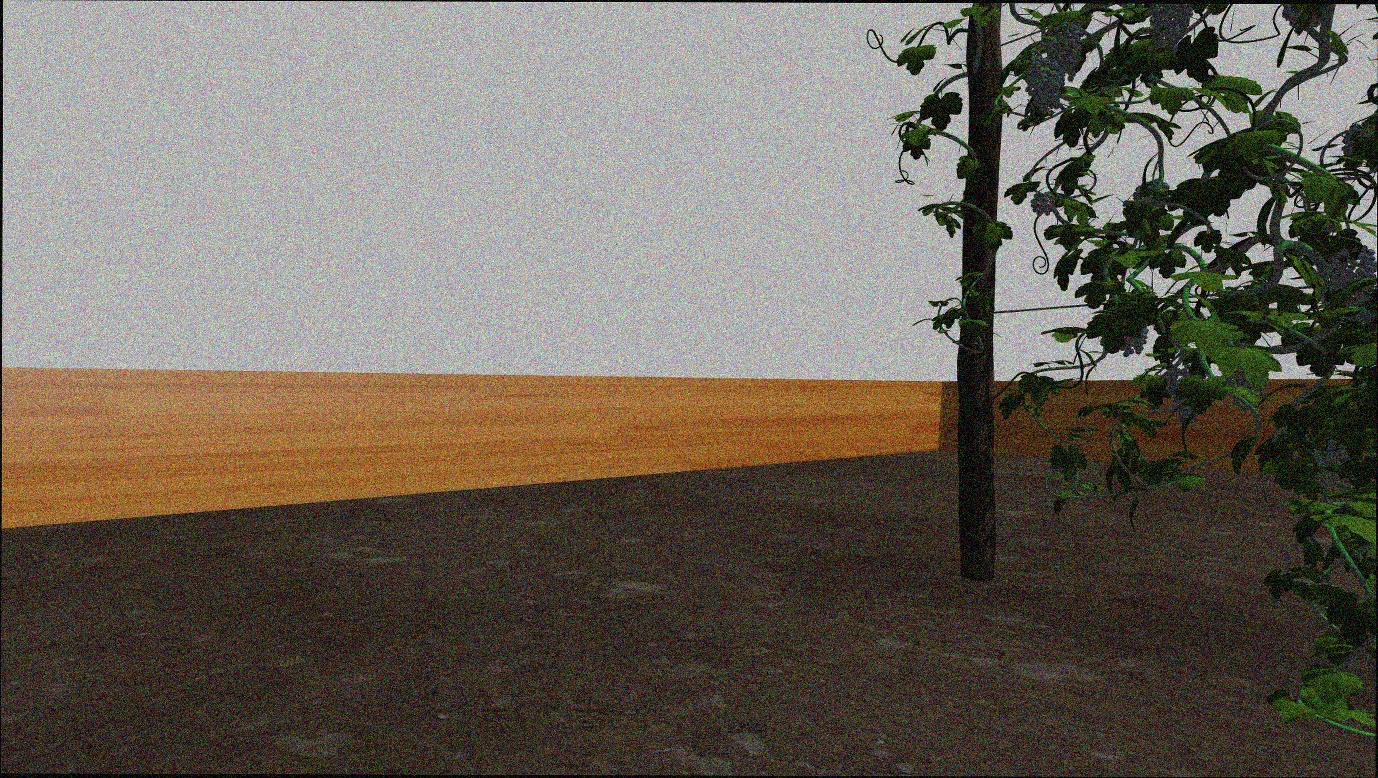grape: (1327, 244, 1375, 308), (1045, 23, 1085, 81), (1148, 8, 1195, 49), (1028, 60, 1061, 111), (1027, 190, 1059, 218)
